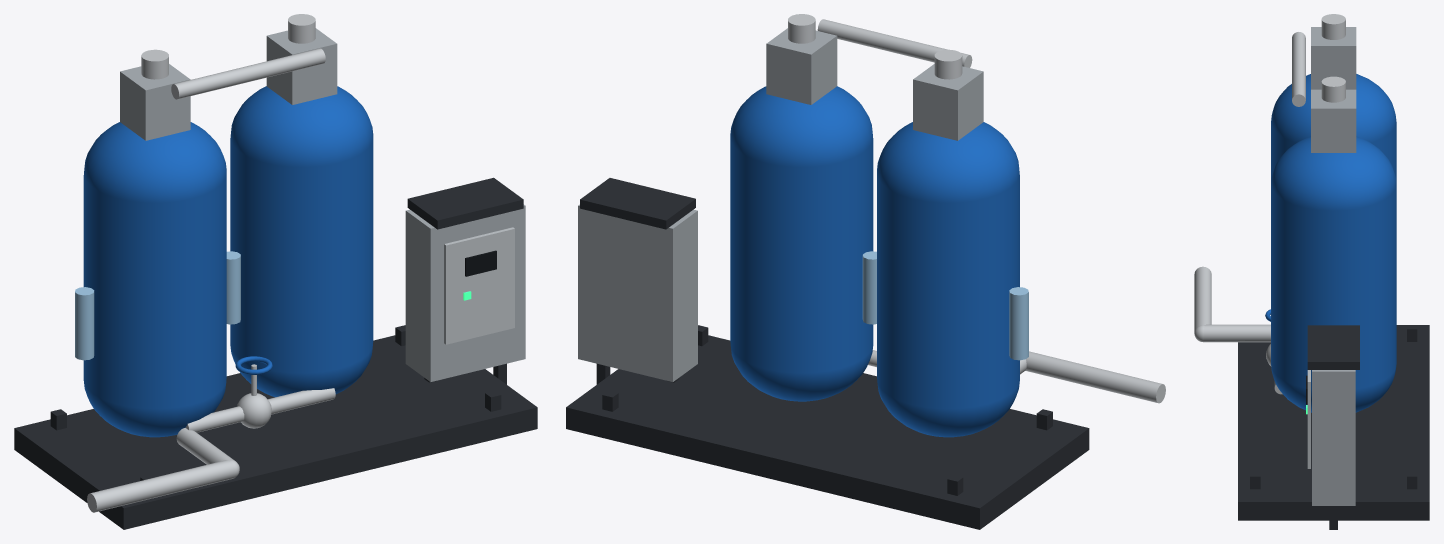
The model's file is Water softener.glb.
The picture shows the model from 3 angles, left to right: view 1: azimuth 30°, elevation 25°; view 2: azimuth 150°, elevation 25°; view 3: azimuth 270°, elevation 25°; orthographic projection. The views are drawn at different scales.
Parts seen in each view (by area): view 1: Asset; view 2: Asset; view 3: Asset.
Boxes of the visible parts, x1,y1,x2,y2 form: Asset: (14, 14, 537, 529); Asset: (566, 14, 1165, 529); Asset: (1194, 14, 1429, 529).
Size of the model in its own units: 2.88 by 2.29 by 1.35.
